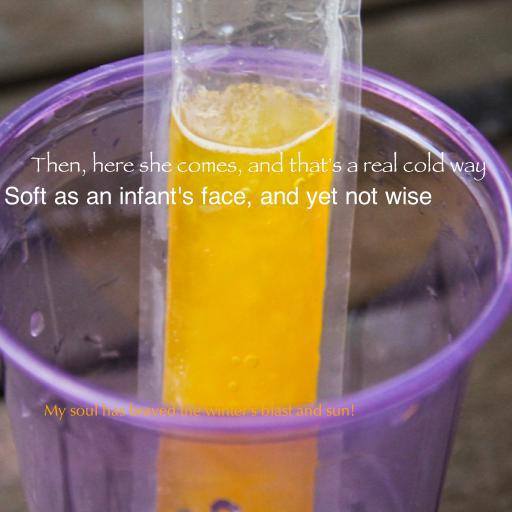Impact: (4, 186, 432, 210)
Optima: (43, 403, 355, 420)
Papyrus: (31, 151, 487, 181)
